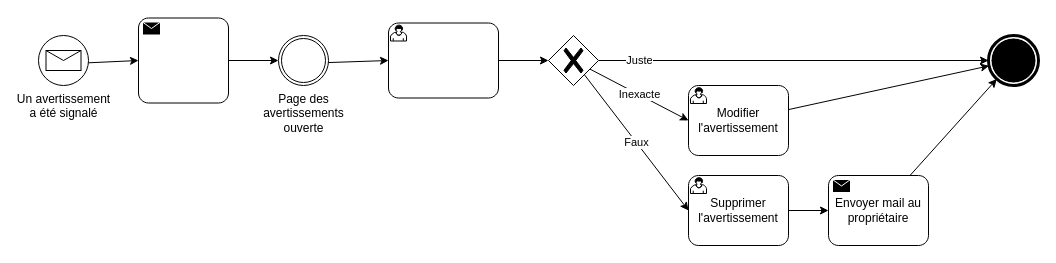
Some shapes in this 1056 by 263 pixel diagram are drawn without their labels. The centre of each missing label's shape, as x and y in pixels:
"Envoyer mail à un Modérateur" belongs at (183,60).
"Visualise un avertissement" belongs at (443,60).
